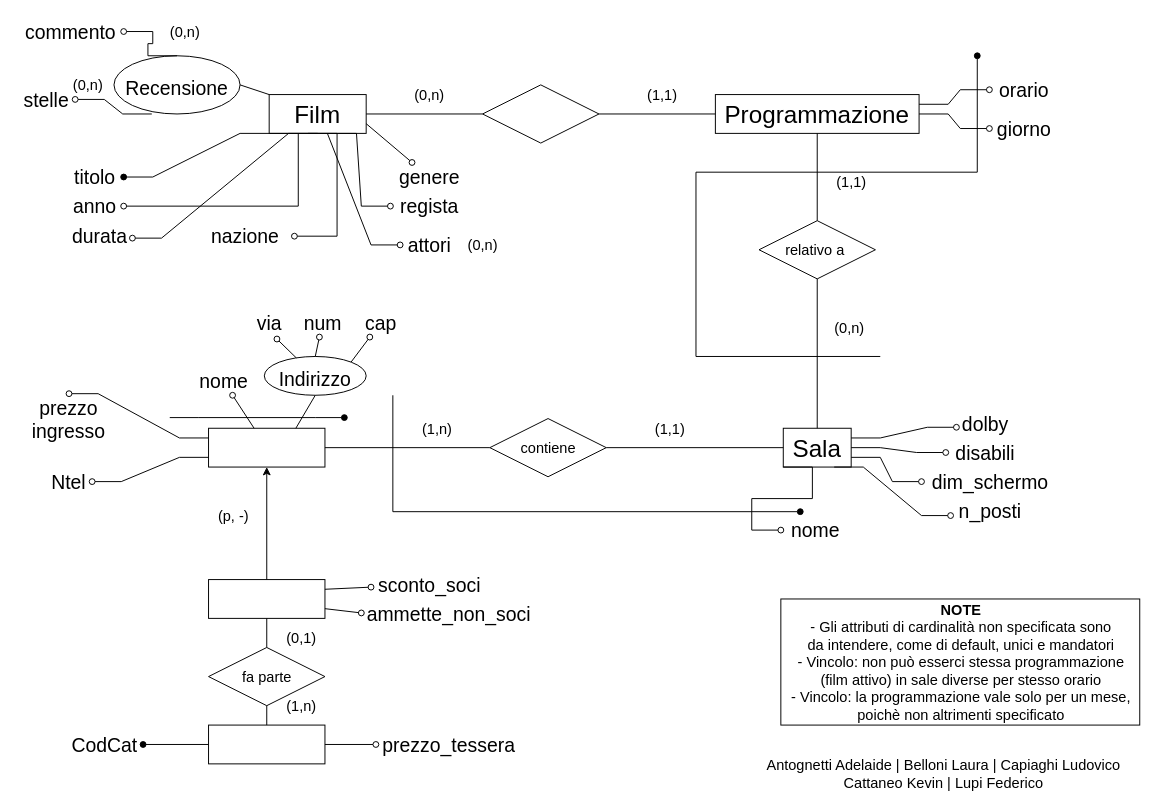
Image size: 1156x809. Some labels were removed from this diagram. The shapes that lost their labels are listed below. From the top down, each one's centre as x and y in pixels, then its label:
point (540, 113): programmato
point (266, 447): Cinema
point (266, 598): Cineclub
point (266, 744): Catena
